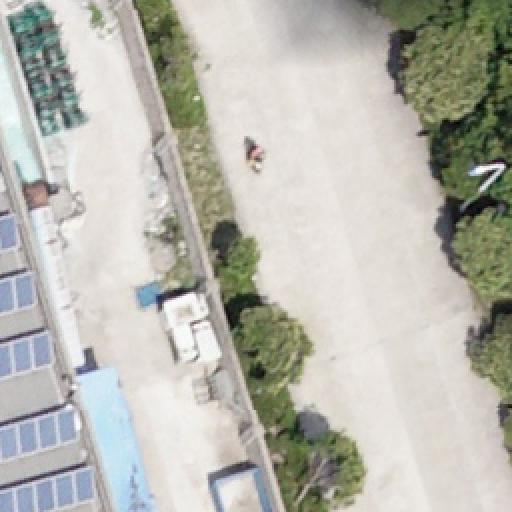solar-panel: (0, 405, 84, 467), (0, 464, 96, 512), (0, 328, 56, 380), (0, 269, 40, 315), (0, 215, 16, 257)
